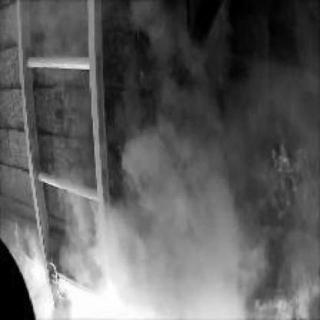Smoke: (112, 147, 245, 316), (142, 12, 220, 132)
